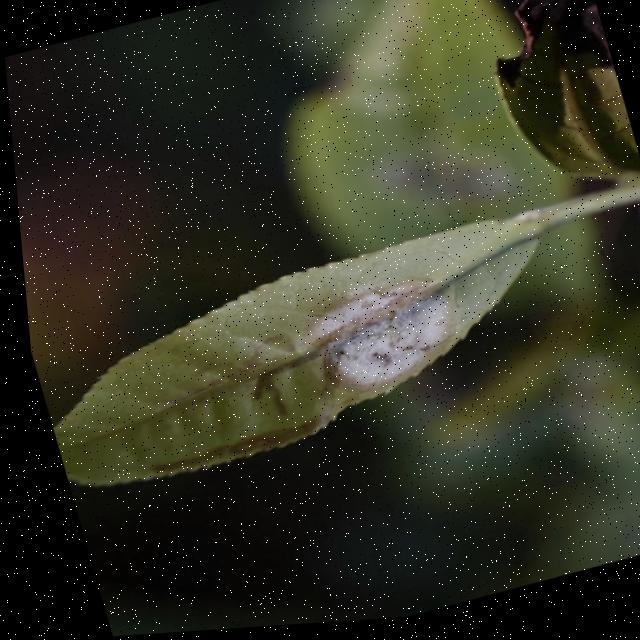Tea cake: (291, 273, 455, 402)
